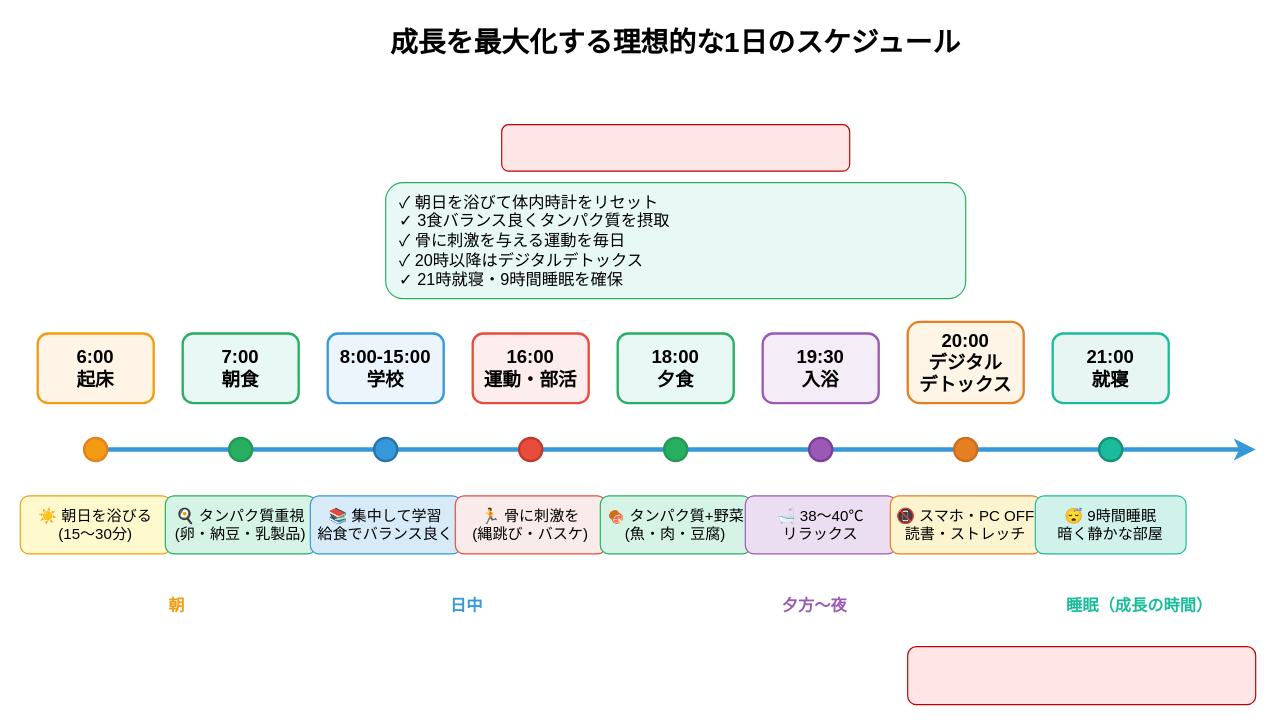
The diagram is 1288 pixels wide and 725 high, and some of its shapes have lost their labels. The shapes that lost their labels are listed below. From the top down, each one's centre as x and y in pixels, then its label:
At pixel 675 147: "⭐ 重要ポイント ⭐".
At pixel 1081 675: "🌙 この時間帯に成長ホルモンが最も分泌されます 🌙".
